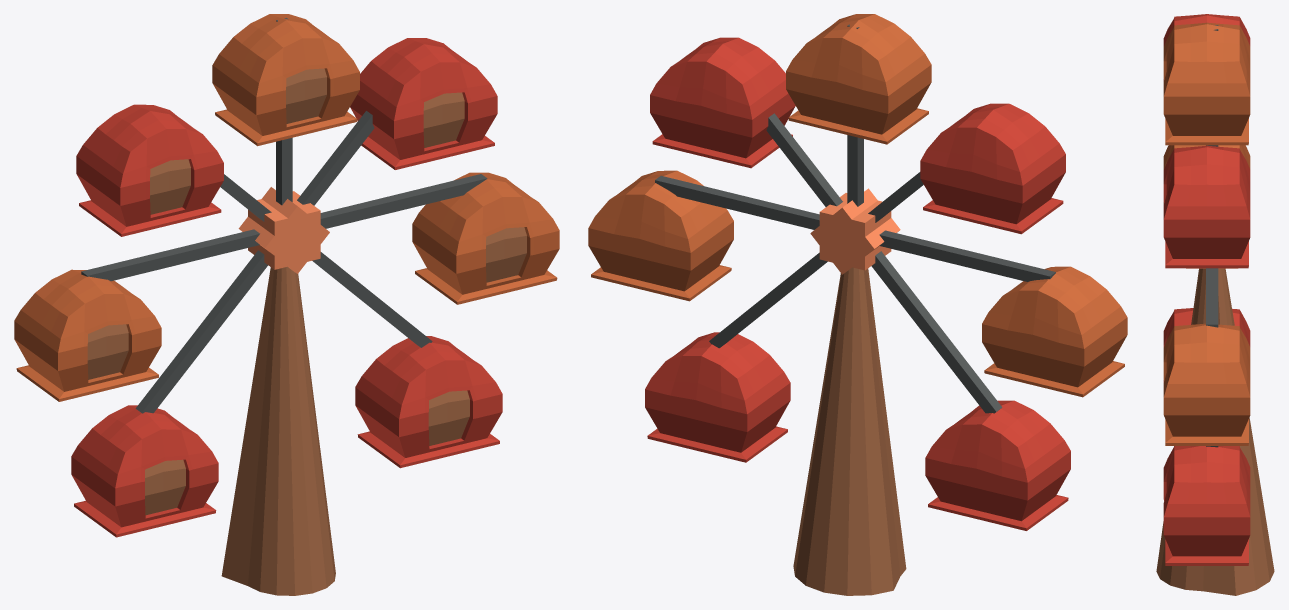
File: ferriswheel.fbx
The picture shows the model from 3 angles, left to right: view 1: azimuth 30°, elevation 25°; view 2: azimuth 150°, elevation 25°; view 3: azimuth 270°, elevation 25°; orthographic projection.
Visible parts, largest first — view 1: ferriswheel; view 2: ferriswheel; view 3: ferriswheel.
Boxes of the visible parts, x1,y1,x2,y2 form: ferriswheel: (14,14,559,595); ferriswheel: (588,14,1127,595); ferriswheel: (1156,14,1274,595).
Size of the model in its own units: 6.84 by 7.23 by 1.41.
